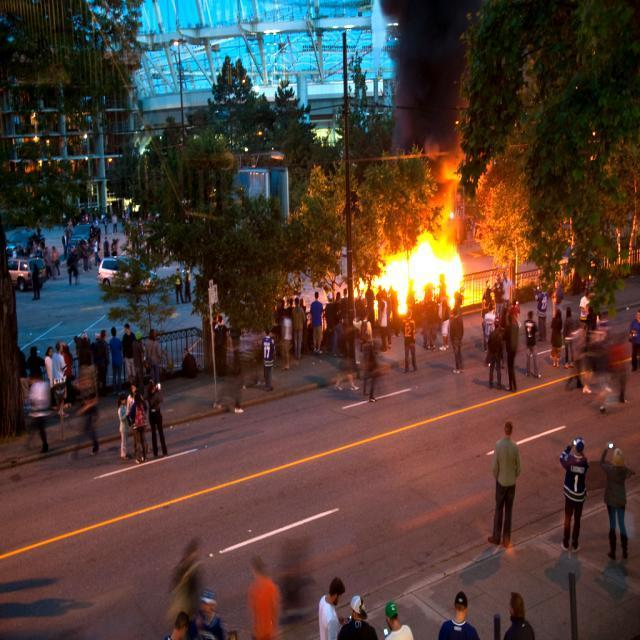Fire: (371, 216, 476, 307)
Smoke: (378, 0, 483, 159)
